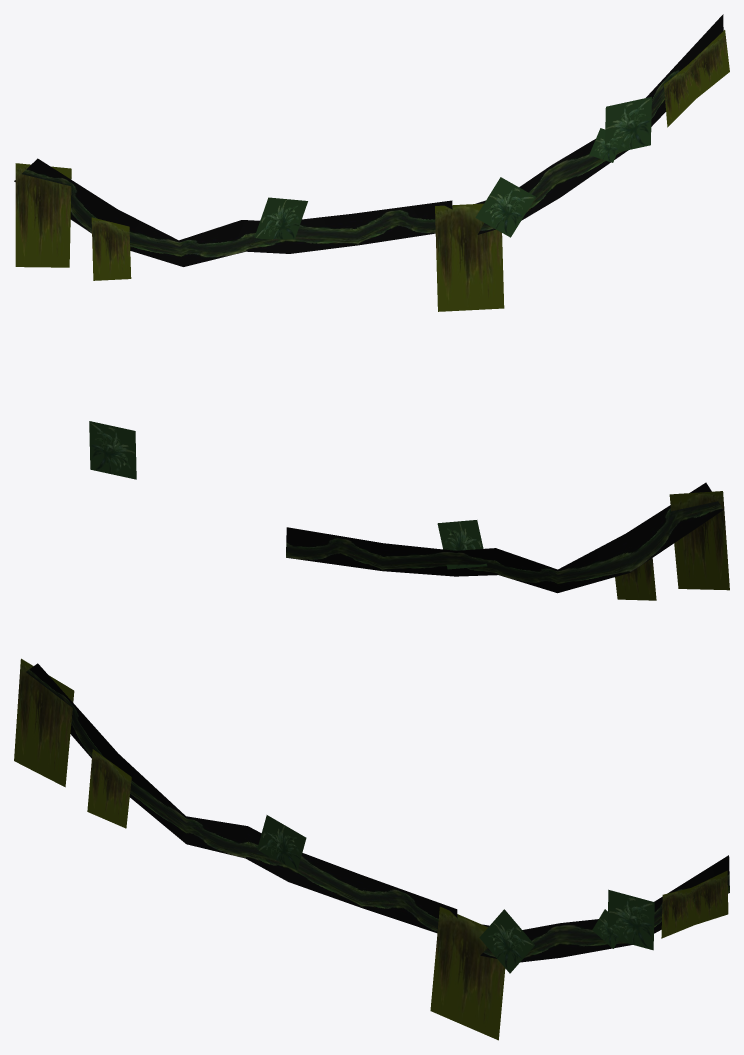
The model's file is jungle_vine_b_150.fbx.
The picture shows the model from 3 angles, top to bottom: view 1: azimuth 30°, elevation 25°; view 2: azimuth 150°, elevation 25°; view 3: azimuth 330°, elevation 25°; orthographic projection.
Parts seen in each view (by area): view 1: vine, vine1, vine4, vine2, boss, vine3, pPlane14, pPlane11, pPlane15, pPlane12; view 2: vine, vine4, pPlane14, pPlane15, vine3; view 3: vine, vine1, vine4, vine2, boss, vine3, pPlane14, pPlane11, pPlane15, pPlane12.
Part boxes in pixels (x1=…): vine: x1=14, y1=158, x2=452, y2=266; vine1: x1=435, y1=203, x2=504, y2=311; vine4: x1=15, y1=163, x2=71, y2=267; vine2: x1=475, y1=14, x2=723, y2=234; boss: x1=664, y1=30, x2=729, y2=127; vine3: x1=91, y1=217, x2=131, y2=280; pPlane14: x1=605, y1=97, x2=651, y2=152; pPlane11: x1=475, y1=177, x2=535, y2=237; pPlane15: x1=254, y1=197, x2=307, y2=239; pPlane12: x1=589, y1=128, x2=624, y2=162; vine: x1=286, y1=482, x2=723, y2=593; vine4: x1=669, y1=491, x2=729, y2=590; pPlane14: x1=89, y1=421, x2=136, y2=479; pPlane15: x1=437, y1=520, x2=487, y2=569; vine3: x1=615, y1=558, x2=656, y2=600; vine: x1=26, y1=663, x2=457, y2=932; vine1: x1=430, y1=906, x2=505, y2=1040; vine4: x1=14, y1=658, x2=74, y2=787; vine2: x1=480, y1=855, x2=729, y2=962; boss: x1=661, y1=870, x2=728, y2=938; vine3: x1=87, y1=749, x2=131, y2=828; pPlane14: x1=607, y1=889, x2=654, y2=950; pPlane11: x1=479, y1=909, x2=534, y2=973; pPlane15: x1=257, y1=815, x2=306, y2=870; pPlane12: x1=592, y1=909, x2=625, y2=948.
Bounding box in the file's own units: 16794 × 5862 × 329.
1 material, 1 textured.
